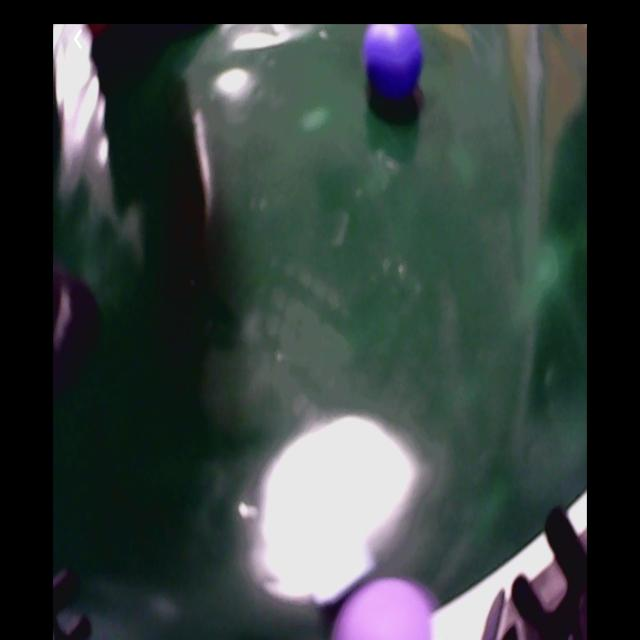ball: (332, 576, 440, 640), (364, 26, 426, 102)
